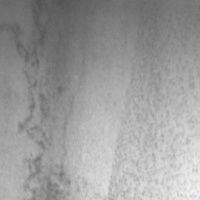pitted_surface: (0, 0, 95, 198), (110, 3, 200, 200)
